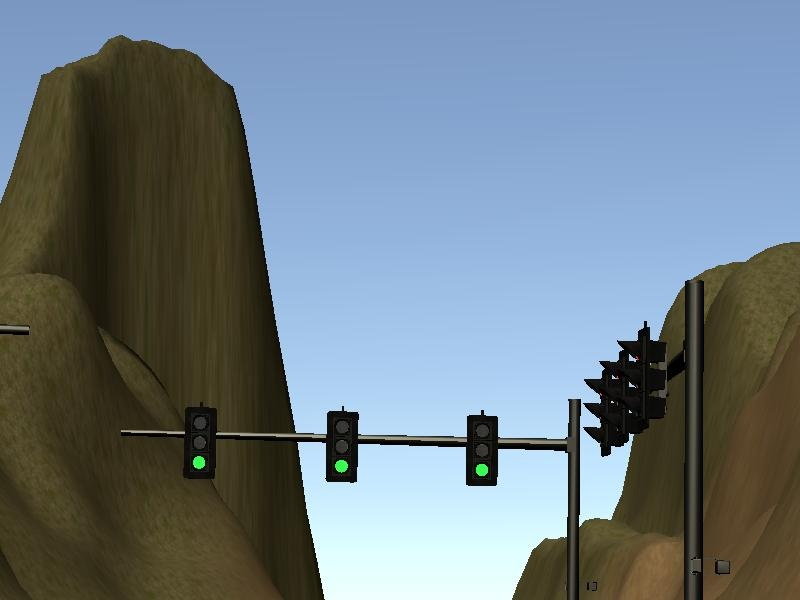green: (466, 414, 500, 488), (325, 414, 360, 485), (184, 411, 216, 481)
